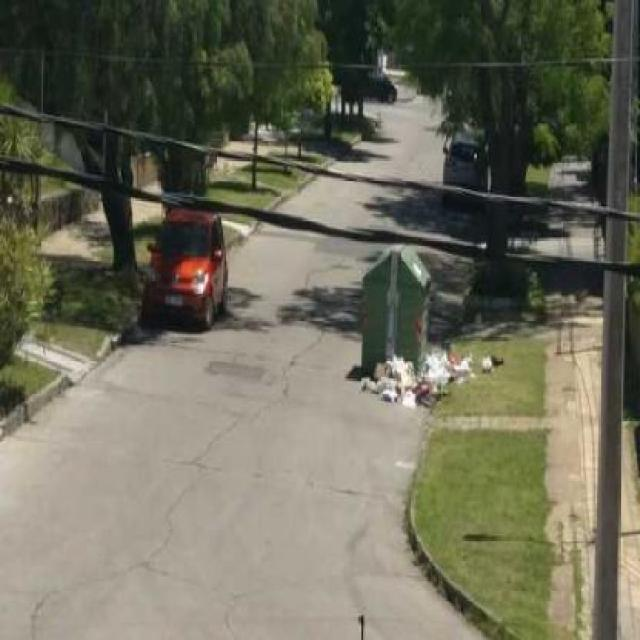garbage: (354, 341, 508, 416)
